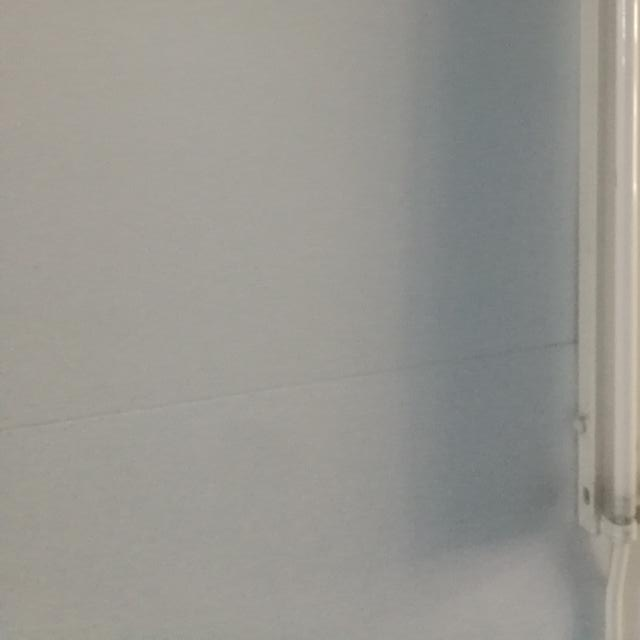fluorescent tube: (537, 0, 640, 556)
